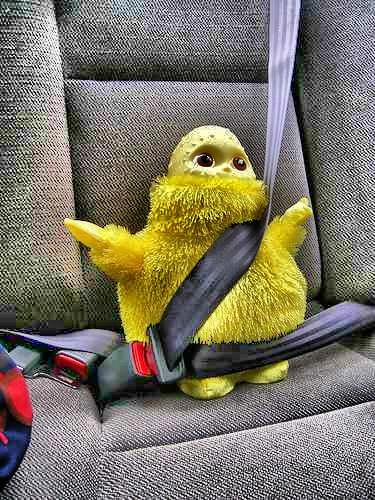seatbelt: (120, 16, 337, 379)
